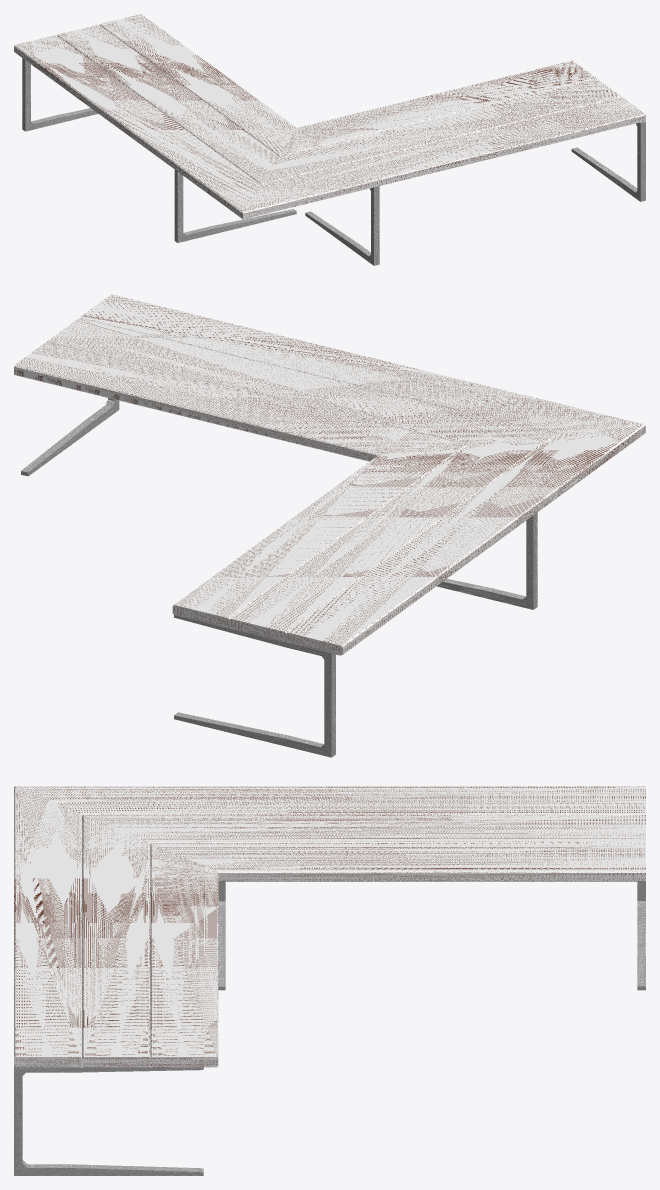
3 views of the same model, one above another, from view 1: azimuth 30°, elevation 25°; view 2: azimuth 150°, elevation 25°; view 3: azimuth 270°, elevation 25° (orthographic). The views are drawn at different scales.
Visible parts, largest first — view 1: mesh2_mesh2-geometry, mesh1_mesh1-geometry; view 2: mesh2_mesh2-geometry, mesh1_mesh1-geometry; view 3: mesh2_mesh2-geometry, mesh1_mesh1-geometry.
Part boxes in pixels (x1,y1,x2,y2): mesh2_mesh2-geometry: (14,14,645,219); mesh1_mesh1-geometry: (22,58,379,265); mesh2_mesh2-geometry: (14,294,645,655); mesh1_mesh1-geometry: (174,512,537,757); mesh2_mesh2-geometry: (14,786,645,1175); mesh1_mesh1-geometry: (218,881,645,990).
Size of the model in its own units: 0.7053 by 0.1443 by 0.6941.
